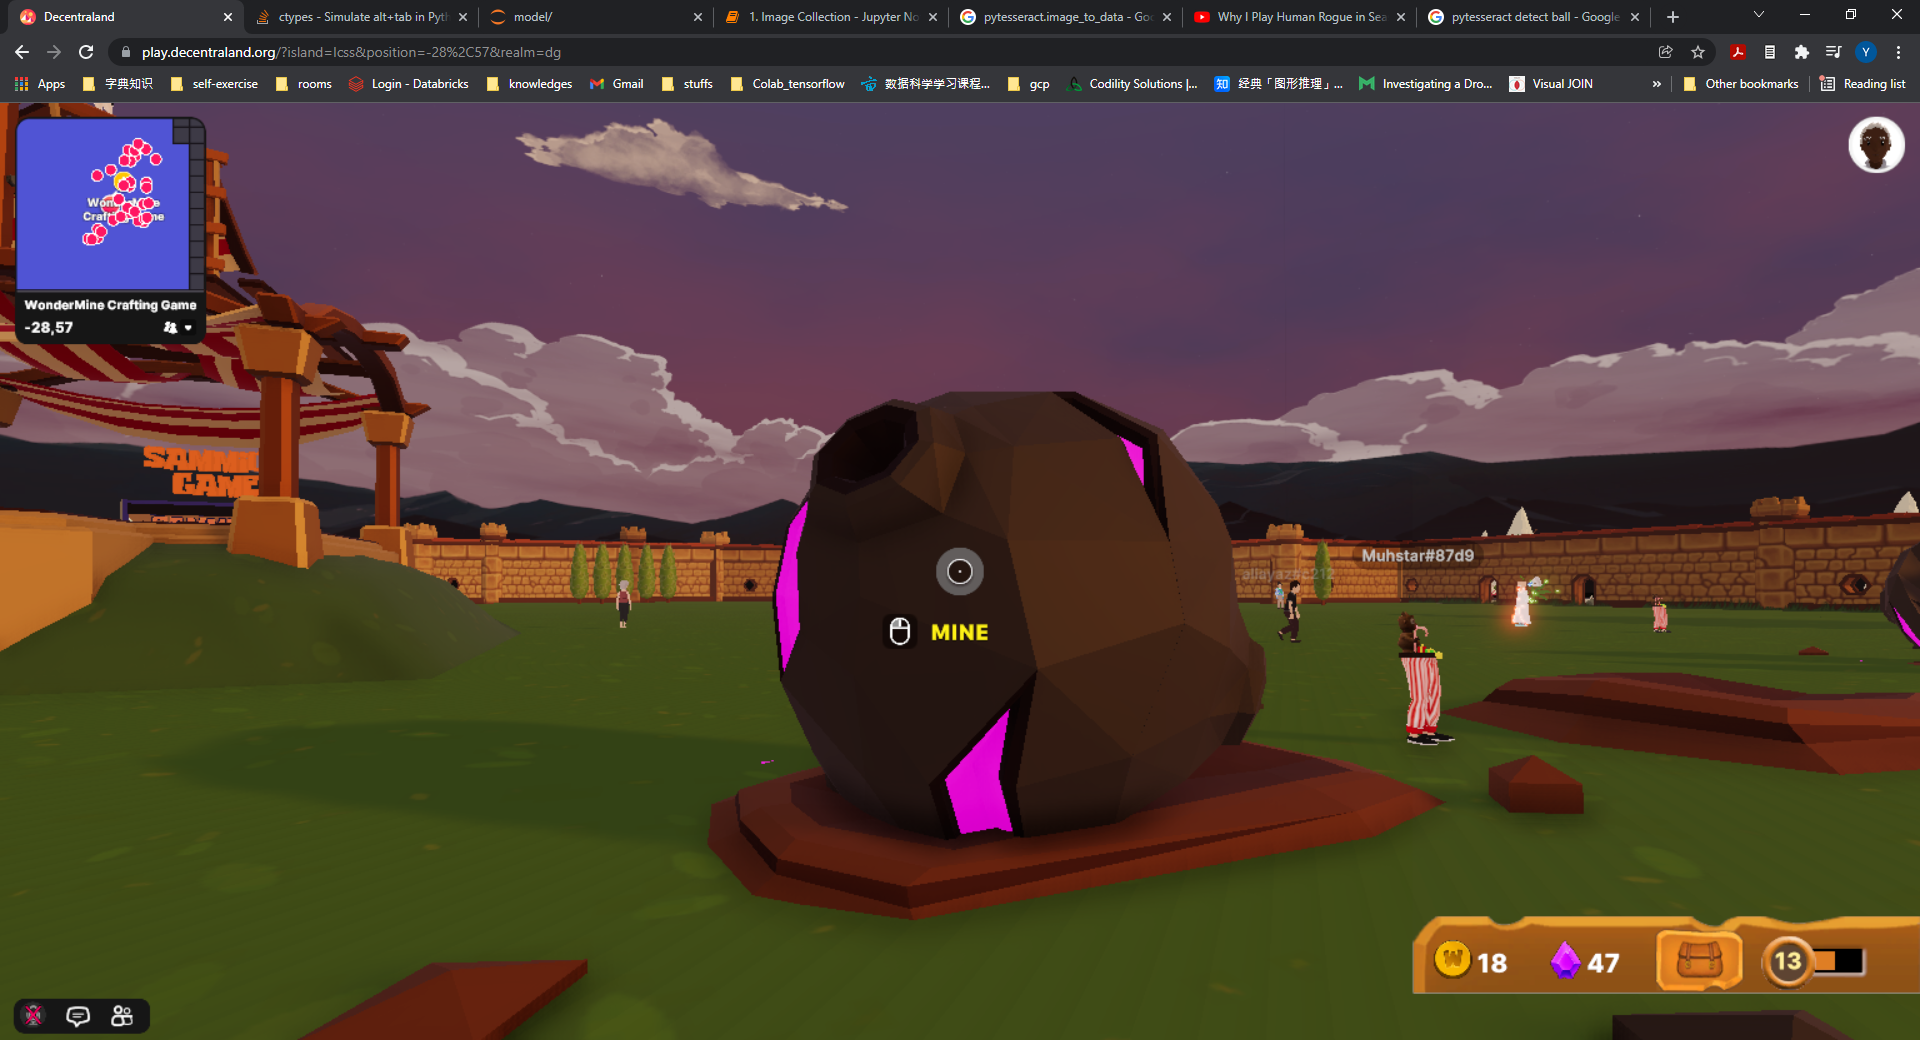black_ball: (759, 392, 1312, 894)
